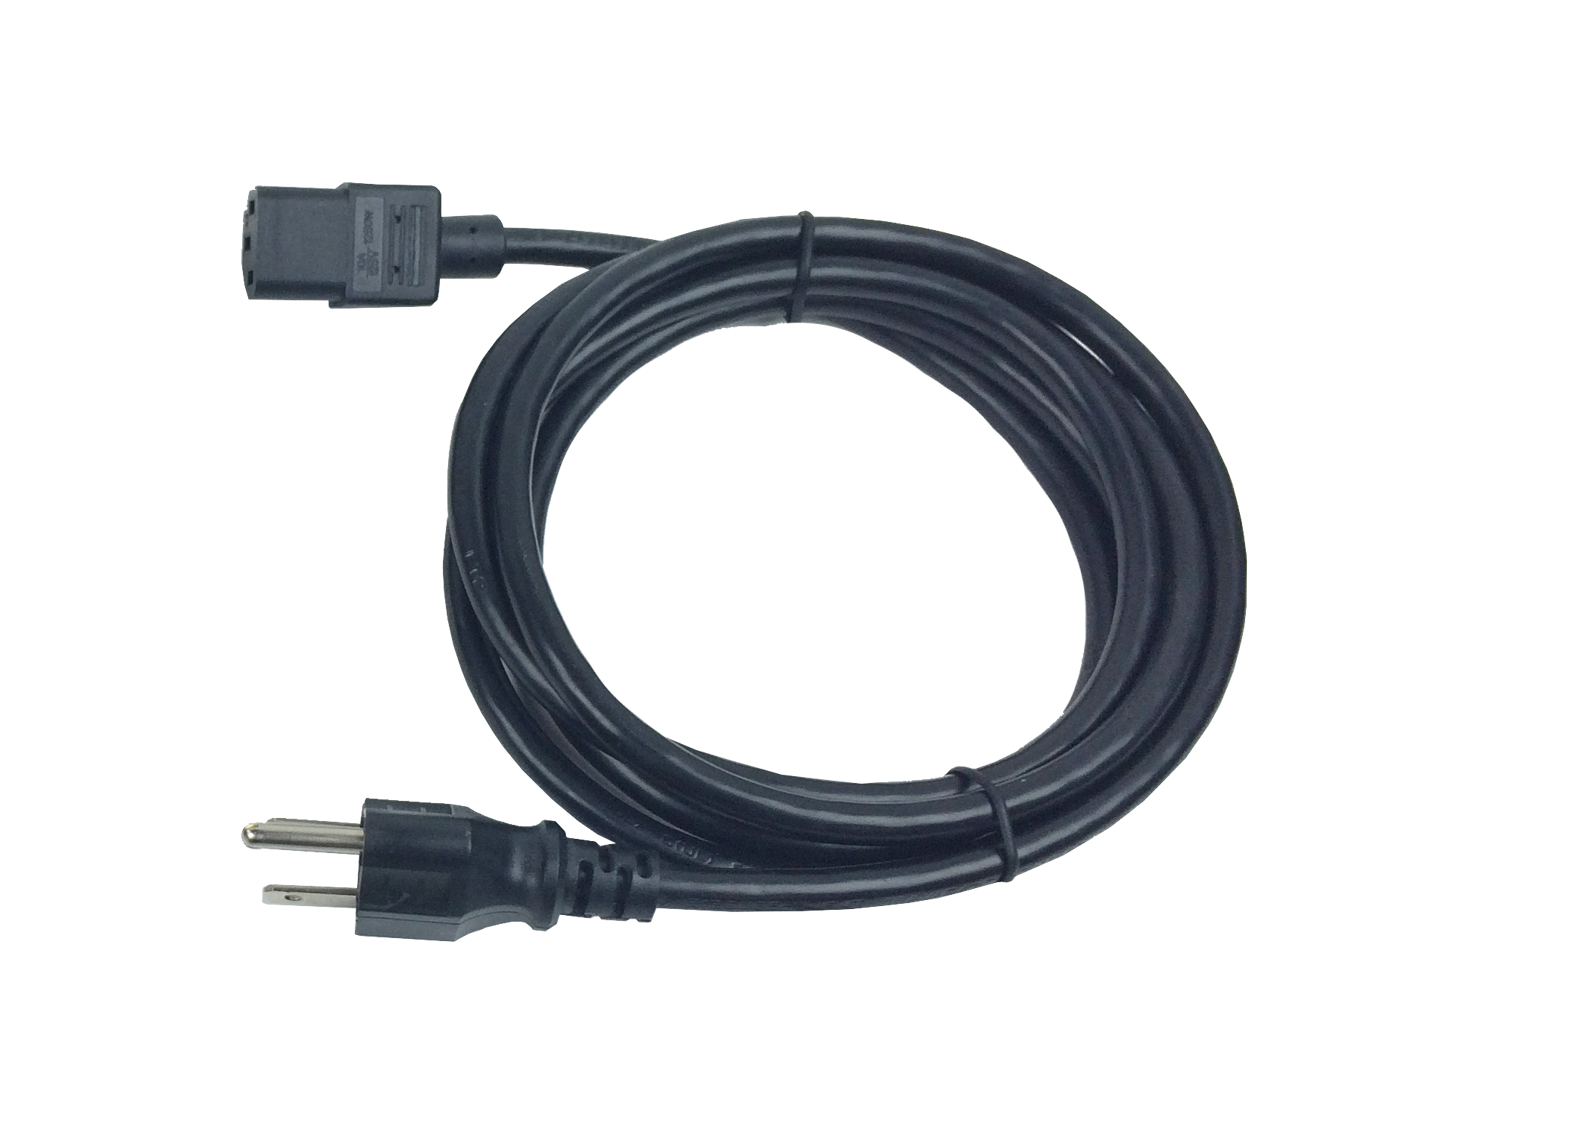Nonrec_Tangler: (104, 161, 1345, 970)
